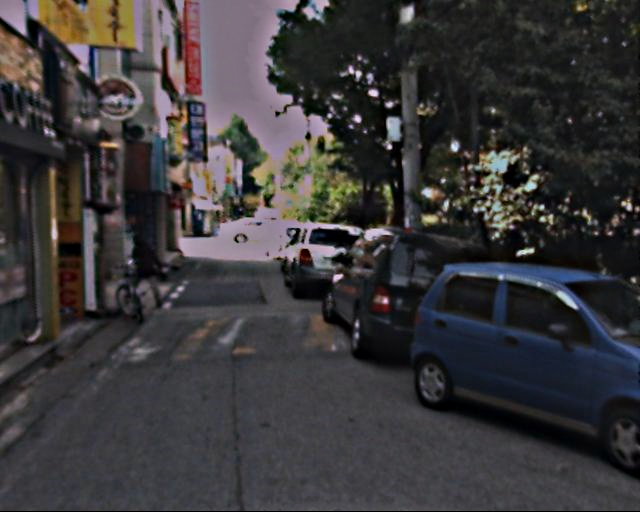person: (123, 225, 163, 304)
